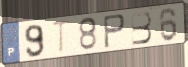6: (158, 7, 179, 44)
8: (77, 16, 99, 53)
9: (22, 23, 46, 59)
B: (129, 10, 154, 47)
P: (102, 13, 127, 51)
T: (50, 19, 72, 56)
